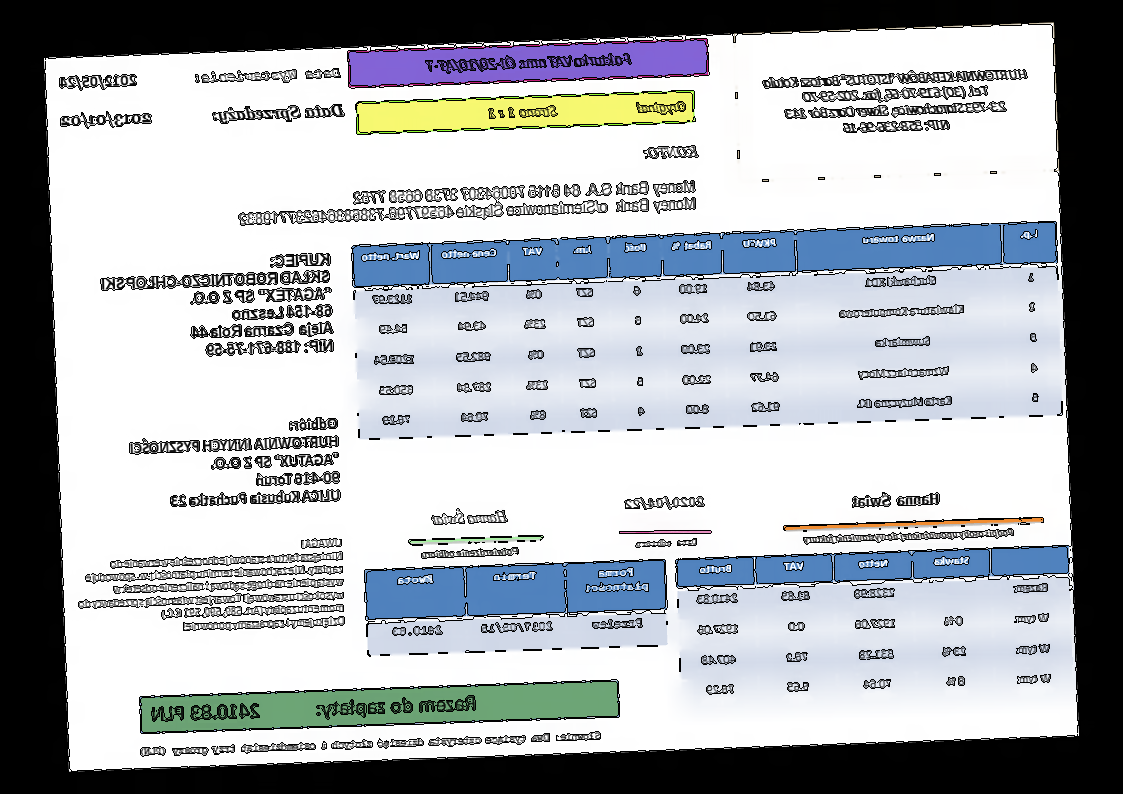Table: (349, 219, 1064, 442), (673, 542, 1077, 712), (364, 557, 670, 658)
TextBox: (74, 533, 349, 638), (99, 248, 337, 363), (235, 173, 699, 229), (127, 413, 343, 512), (761, 65, 1032, 140), (138, 727, 603, 761), (148, 689, 479, 727), (485, 96, 690, 124), (420, 50, 636, 75), (798, 524, 1016, 546), (210, 100, 346, 128), (192, 65, 345, 87), (55, 108, 153, 132), (848, 488, 944, 510), (621, 491, 708, 515), (55, 70, 141, 93), (428, 506, 510, 528), (419, 544, 523, 561), (640, 140, 701, 162), (633, 534, 700, 549)
